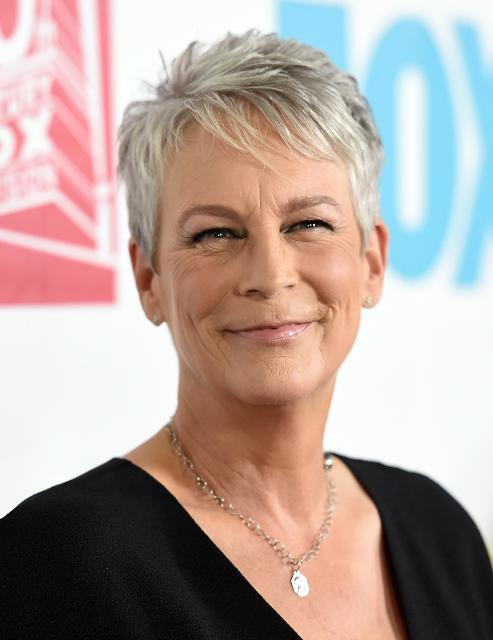chin: (262, 354, 290, 376)
crows_feet: (172, 230, 196, 272), (334, 218, 354, 256)
frown_line: (246, 184, 278, 222)
gummy_smile: (201, 288, 233, 318), (302, 270, 333, 300)
sad_smile: (195, 326, 227, 362), (320, 310, 336, 348)
